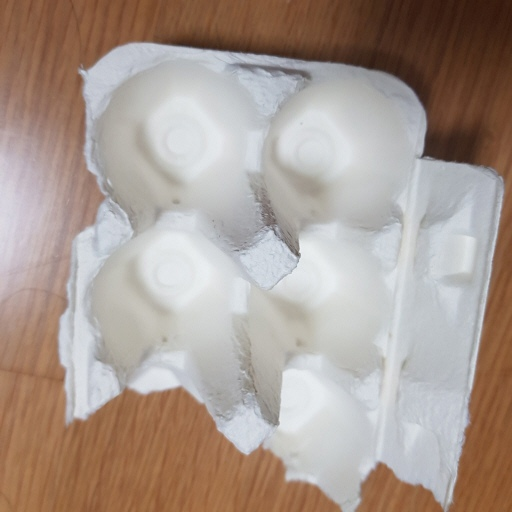Paper_0: (57, 29, 482, 396)
